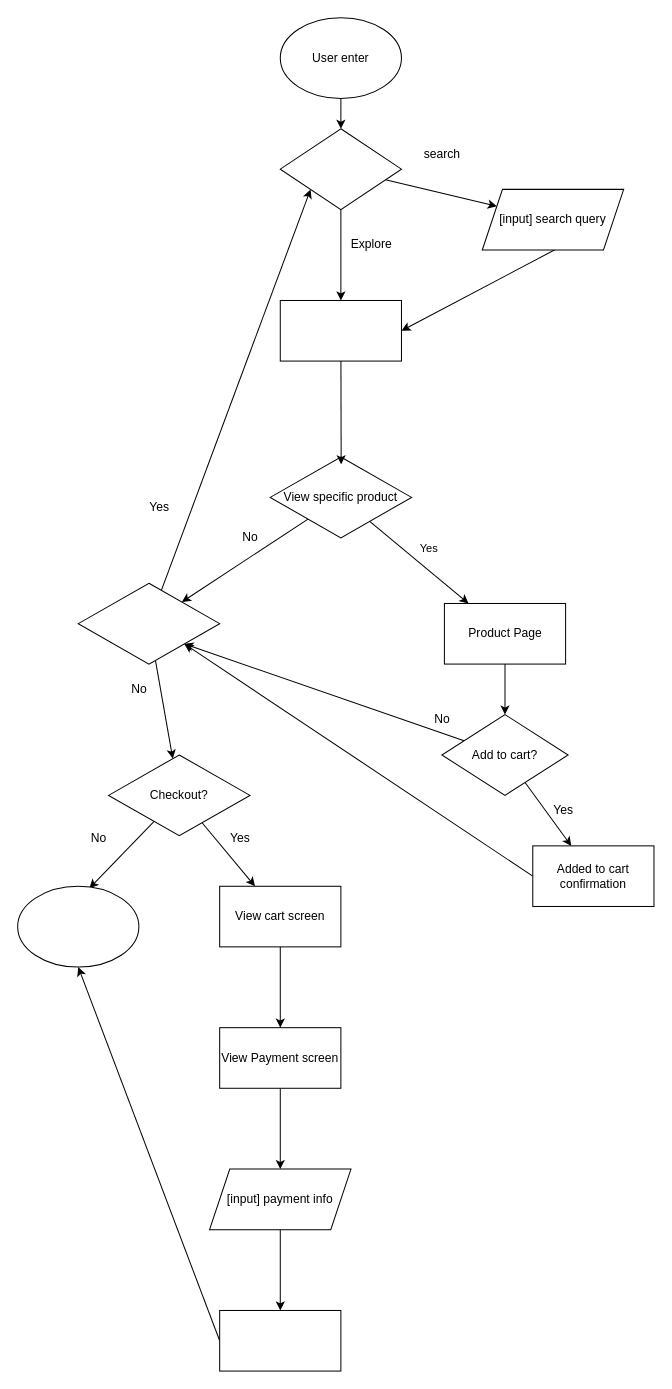
This 672x1389 diagram has some shape labels left out. The shapes that lost their labels are listed below. From the top down, each one's centre as x and y in pixels, then its label:
point 340,169: Search/ Explore
point 340,330: Browse products
point 148,623: Continue Shopping
point 78,926: Leave website
point 280,1340: Order confirmation + Email
